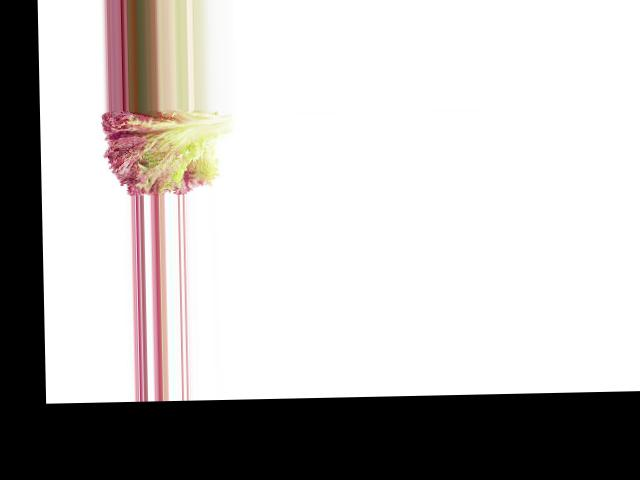lettuce: (93, 108, 238, 194)
